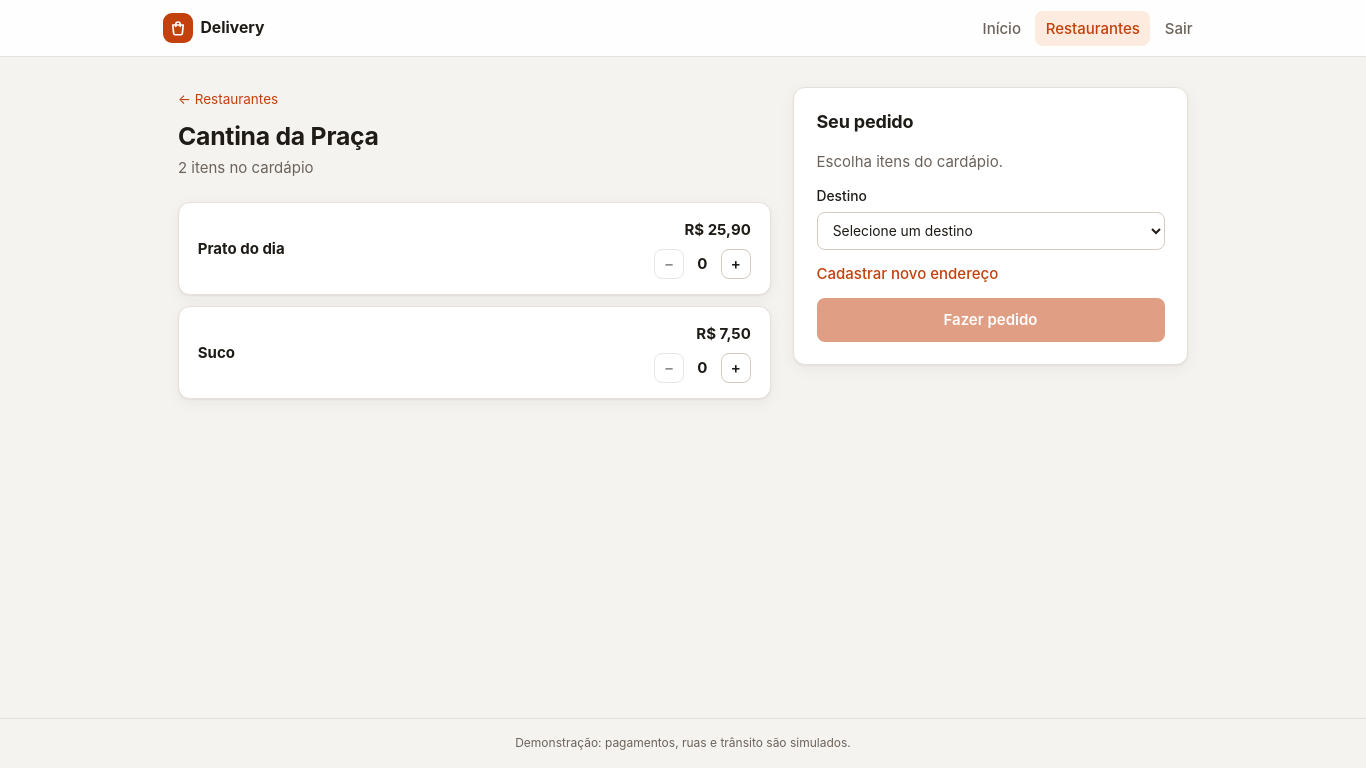
checkout › places an order with the chosen quantities and destination
Expected: the heading "Cantina da Praça" is shown, [178,121,379,152]
Expected: the button "Fazer pedido" is disabled, [816,298,1164,342]
Click the button named "Adicionar uma unidade de Prato do dia" at coordinates (736, 264), box [721,249,751,279]
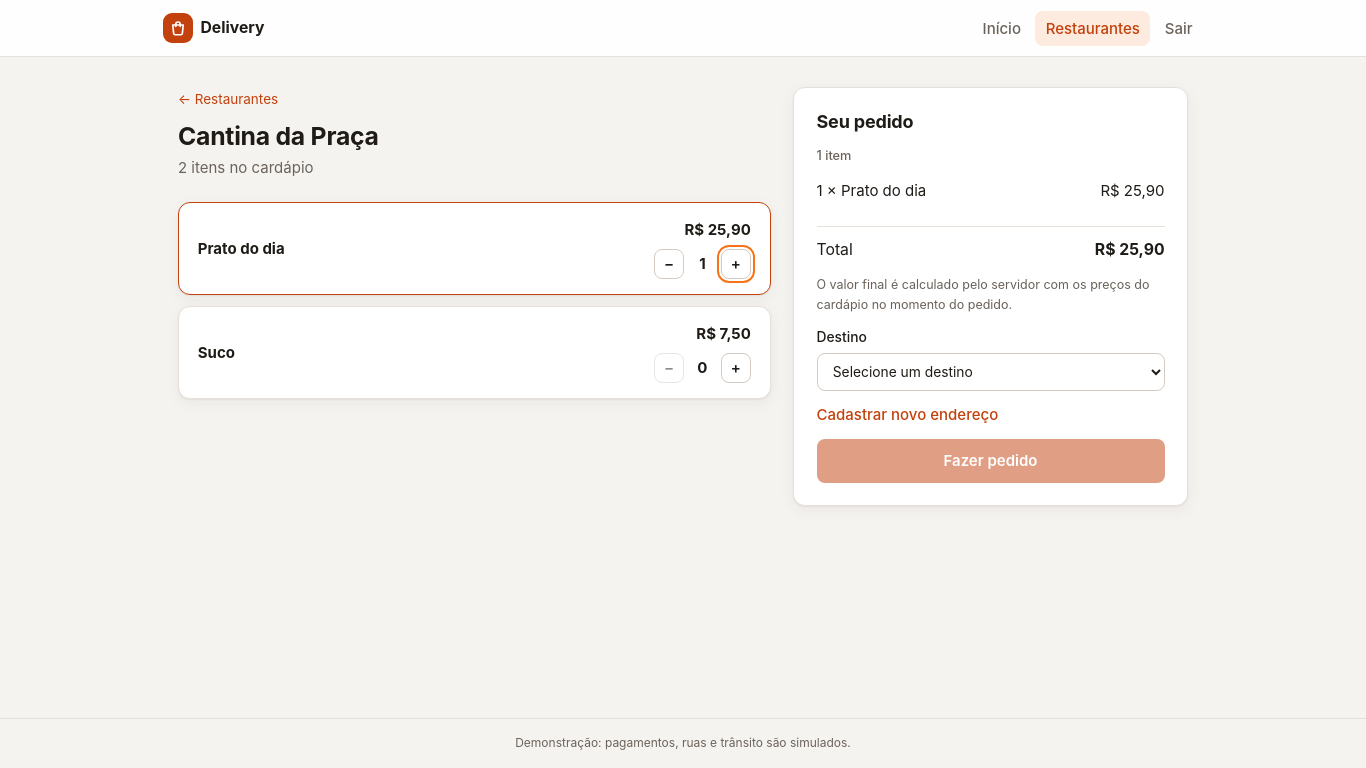
Click the button named "Adicionar uma unidade de Prato do dia" at coordinates (736, 264), box [721,249,751,279]
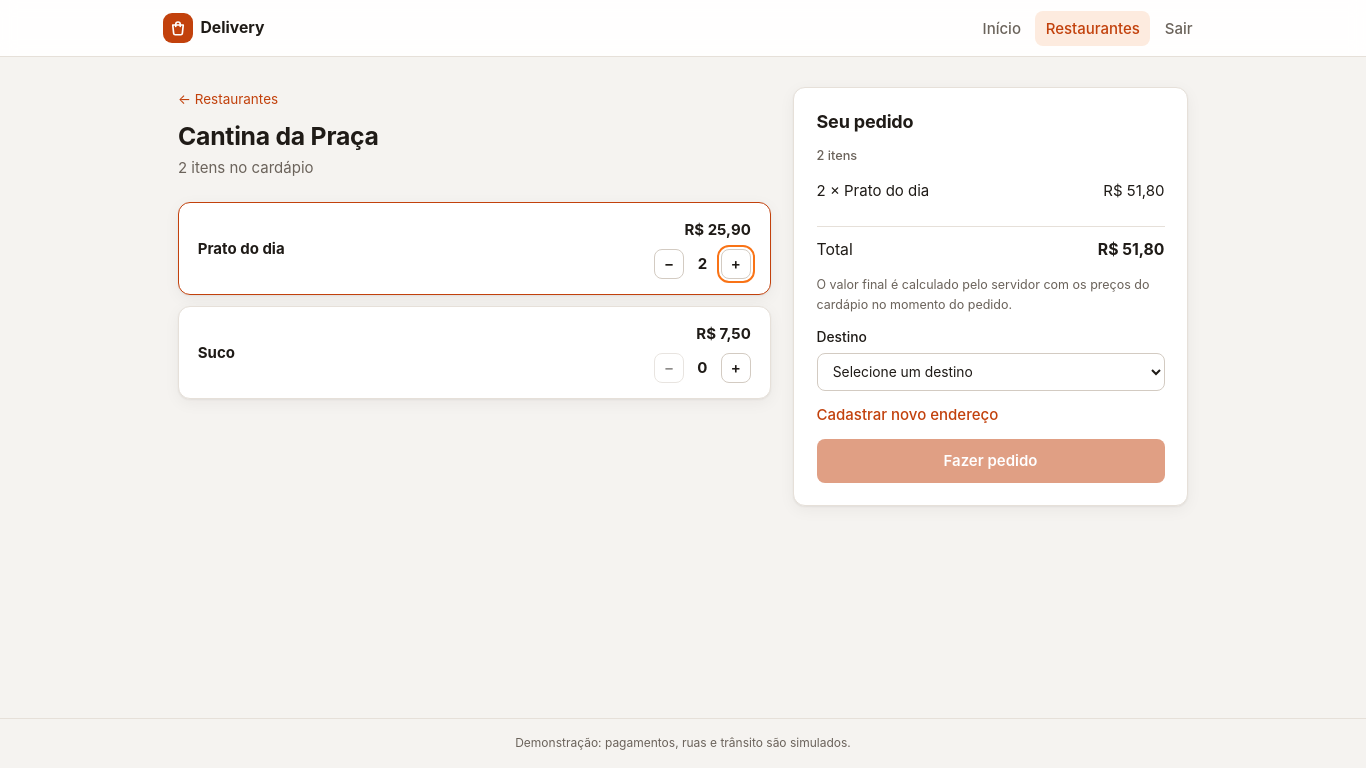
Click the button named "Adicionar uma unidade de Suco" at coordinates (736, 368), box [721,353,751,383]
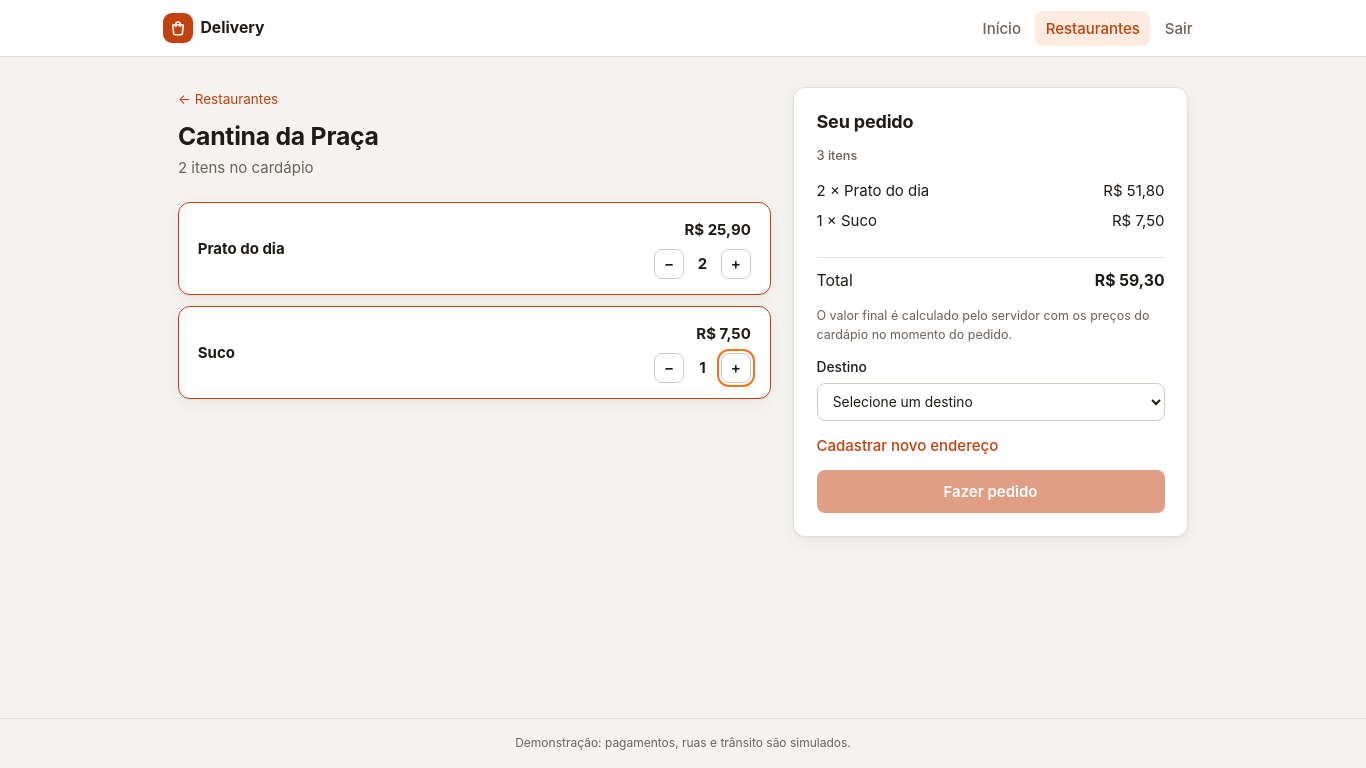
Expected: the button "Fazer pedido" is disabled, [816,470,1164,513]
Result: the text "R$ 59,30" is shown at [1095,269,1164,293]
Select "Ponto sintético C" in the dropdown labelled "Destino" at coordinates (990, 402), box [816,383,1164,421]
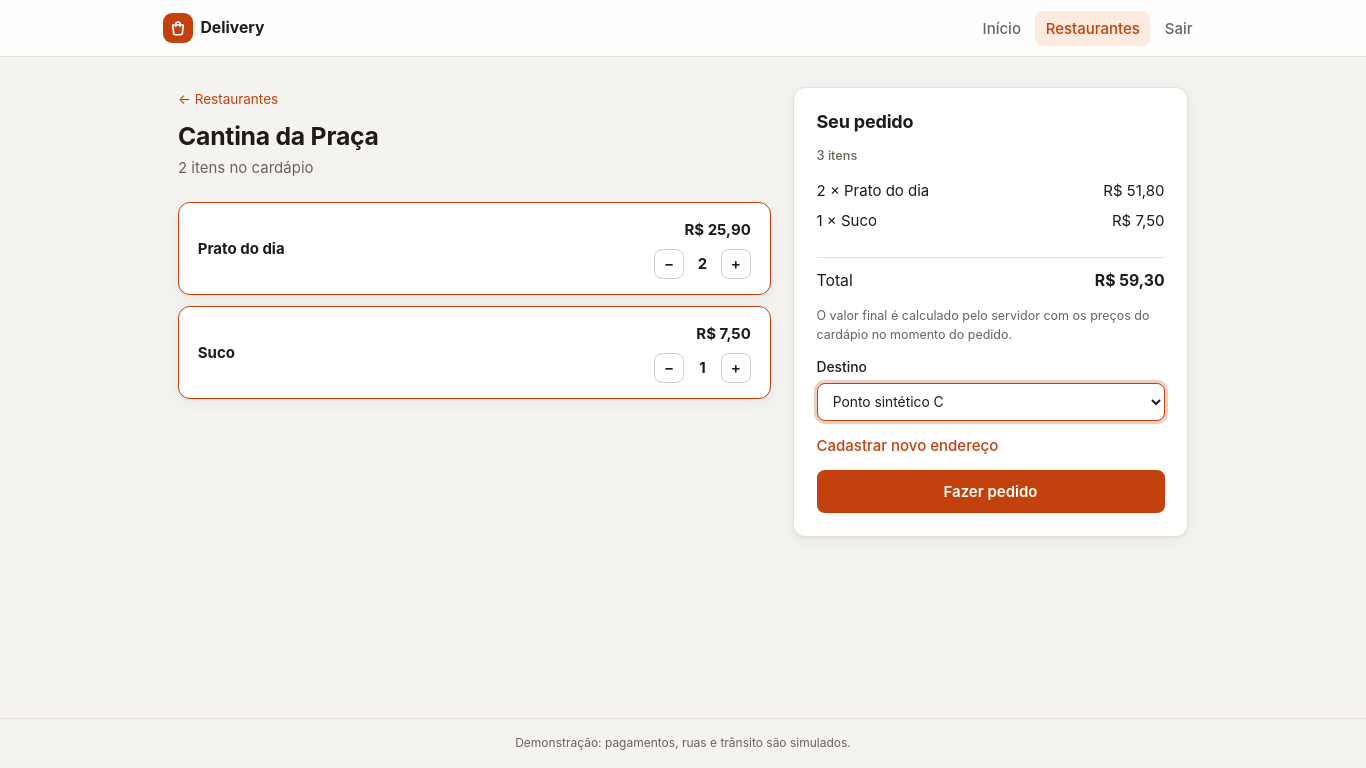
Click the button "Fazer pedido" at coordinates (990, 492), box [816,470,1164,513]
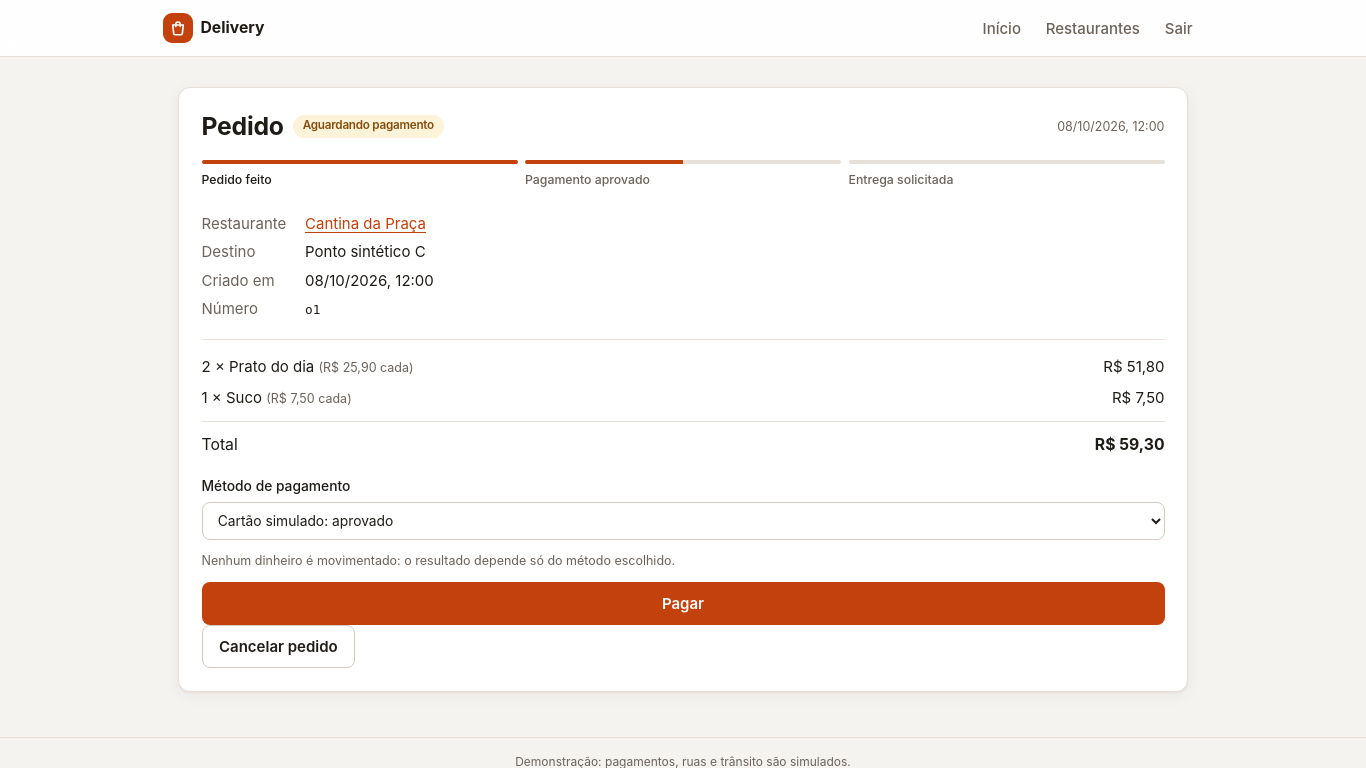
Result: the text "Aguardando pagamento" is shown at [293,115,444,138]
